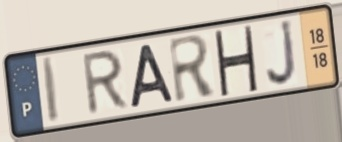A: (128, 42, 177, 111)
H: (211, 24, 259, 97)
I: (40, 53, 62, 126)
J: (264, 17, 300, 89)
R: (166, 31, 219, 106), (81, 46, 131, 118)
